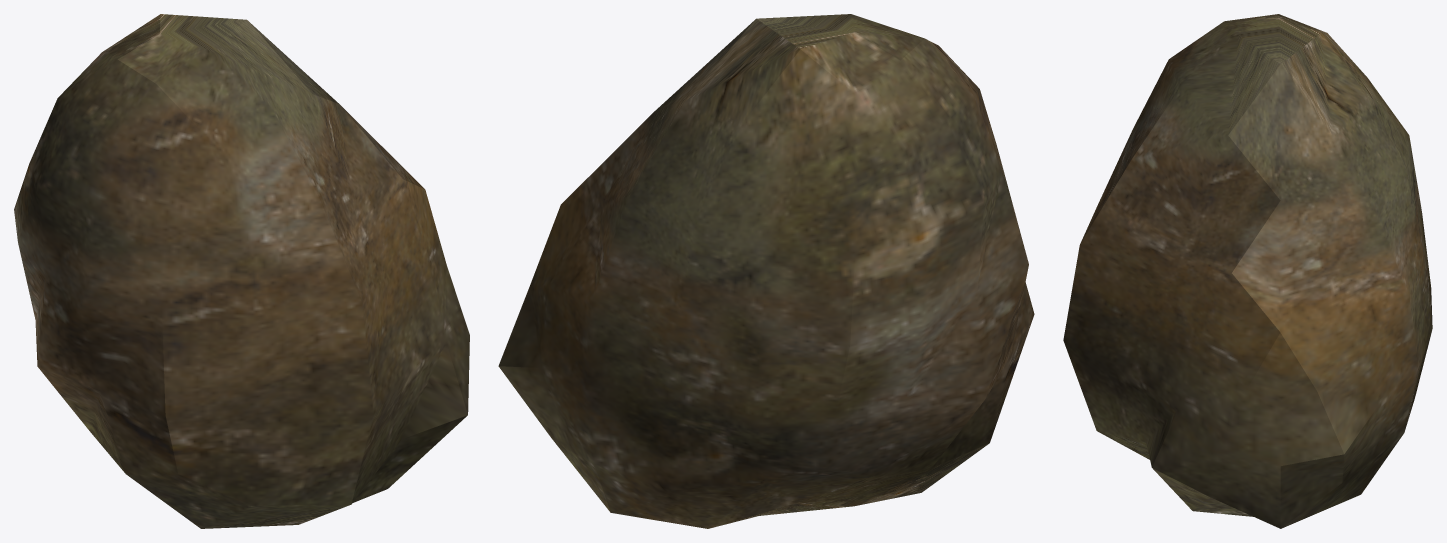
The model's file is rock3.gltf.
3 views of the same model, side by side, from view 1: azimuth 30°, elevation 25°; view 2: azimuth 150°, elevation 25°; view 3: azimuth 270°, elevation 25° (orthographic). The views are drawn at different scales.
Parts seen in each view (by area): view 1: rock.003; view 2: rock.003; view 3: rock.003.
Boxes of the visible parts, x1,y1,x2,y2 form: rock.003: [14, 14, 469, 528]; rock.003: [498, 14, 1034, 528]; rock.003: [1063, 14, 1432, 528].
Size of the model in its own units: 0.6863 by 0.7565 by 0.5994.
